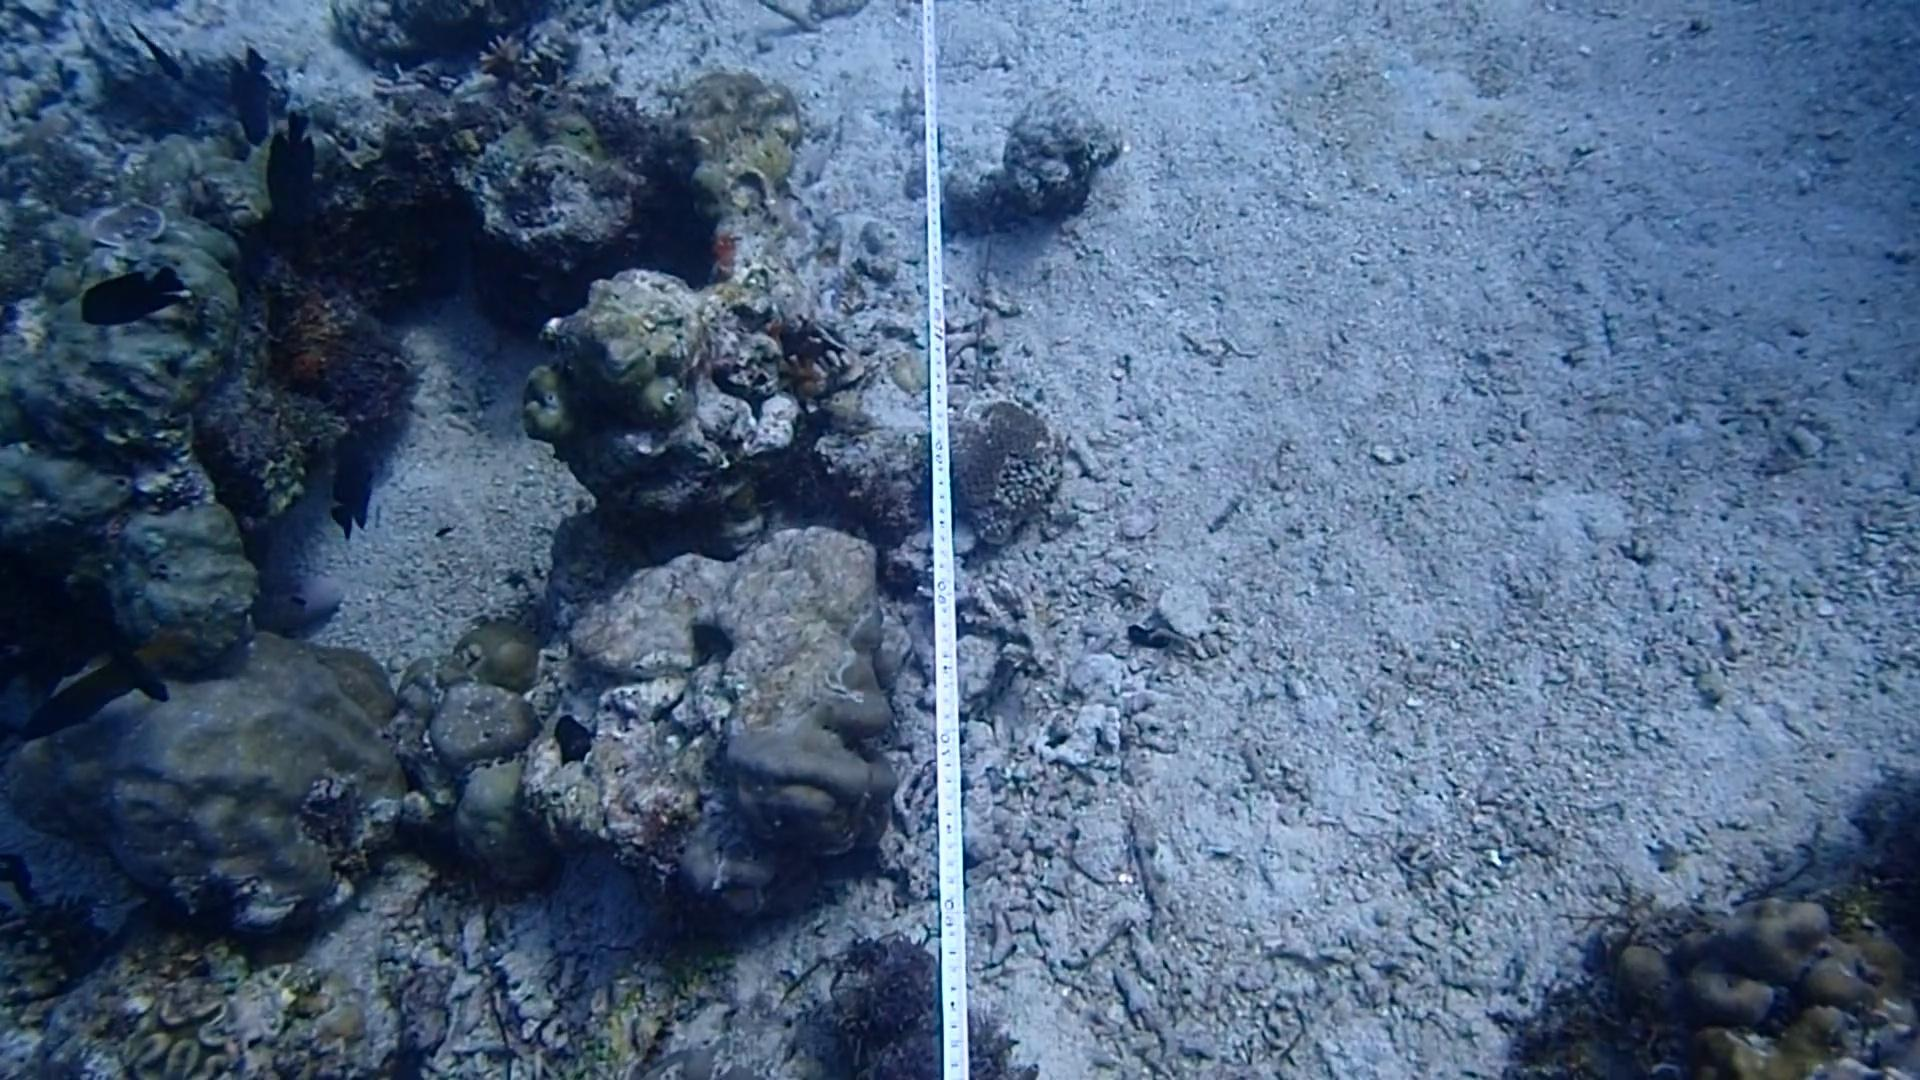Dark Fish: (78, 251, 196, 338), (316, 421, 398, 546), (99, 612, 178, 723), (261, 102, 327, 229), (224, 28, 284, 160), (132, 12, 202, 96)
Half Blue - Half Yellow: (24, 603, 219, 753)
